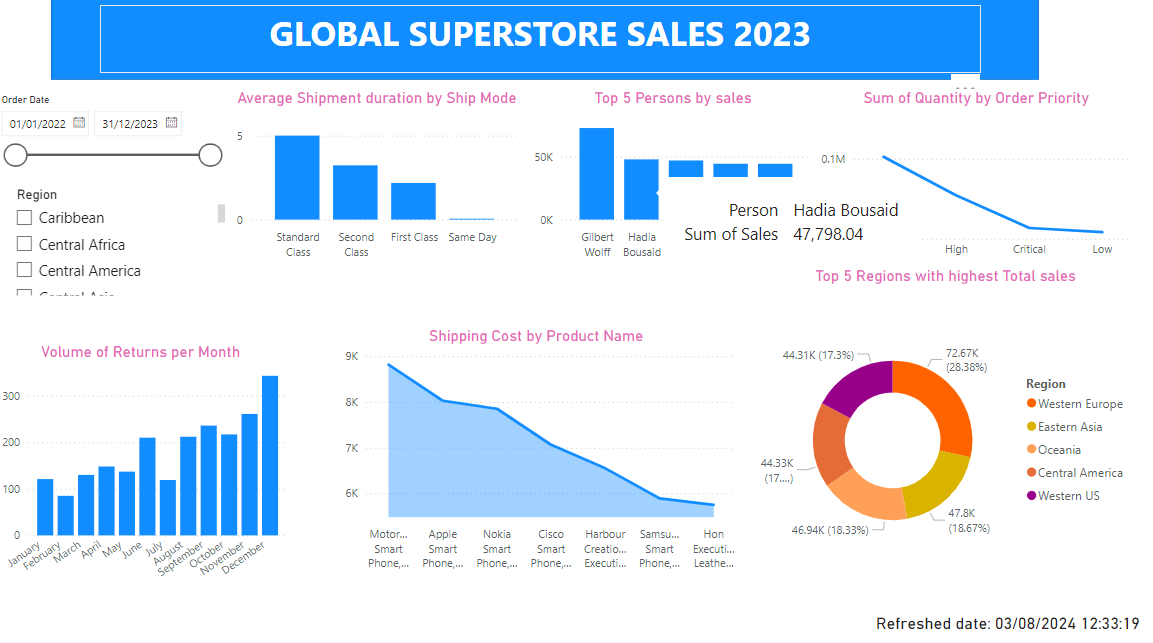

What the dashboard file says about the page in this screenshot:
{"tool":"powerbi","page":{"name":"Page 1","canvas":[1280,720],"ordinal":0},"visuals":[{"type":"textbox","box":[314.2,35.7,837.1,54.9],"z":0},{"type":"textbox","box":[10,570,280,150],"z":1000},{"type":"shape","box":[67.2,0,1084.1,98.8],"z":2000},{"type":"textbox","box":[120.8,16.5,967.4,74.1],"z":3000},{"type":"columnChart","title":"Top 5 Persons by sales","fields":{"Category":["People.Person"],"Y":["Orders.Sales"]},"box":[592.8,108.4,314.2,194.9],"z":4000},{"type":"donutChart","title":"Top 5 Regions with highest Total sales ","fields":{"Category":["People.Region"],"Y":["Orders.Sales"]},"box":[839.8,303.3,418.5,363.6],"z":5000},{"type":"stackedAreaChart","title":" Shipping Cost by Product Name","fields":{"Category":["Orders.Product Name"],"Y":["Orders.Shipping Cost"]},"box":[371.9,369.1,455.6,275.8],"z":6000},{"type":"lineChart","fields":{"Category":["Orders.Order Priority"],"Y":["Orders.Quantity"]},"box":[907,108.4,351.3,194.9],"z":7000},{"type":"columnChart","title":"Volume of Returns per Month","fields":{"Category":["Orders.Ship Date.Variation.Date Hierarchy.Month"],"Y":["Orders.Order ID"]},"box":[0,387,330.7,279.9],"z":8000},{"type":"clusteredColumnChart","title":"Average Shipment duration by Ship Mode","fields":{"Category":["Orders.Ship Mode"],"Y":["Orders.Shipment duration"]},"box":[263.5,108.4,322.5,194.9],"z":9000},{"type":"slicer","fields":{"Values":["Orders.Order Date"]},"box":[0,108.4,263.5,97.4],"z":10000},{"type":"slicer","fields":{"Values":["Returns.Region"]},"box":[16.5,211.3,247,129],"z":11000},{"type":"card","fields":{"Values":["Refresh date.Refreshed date"]},"box":[955.1,671,325.2,49.4],"z":11001}]}

Visuals, with their boxes in screenshot pixels (x1, y1, x2, y2), scaled from the page's 1280x720 canvas onto the 1153x643 screenshot:
textbox: <bbox>283, 32, 1037, 81</bbox>
textbox: <bbox>9, 509, 261, 642</bbox>
shape: <bbox>61, 0, 1037, 88</bbox>
textbox: <bbox>109, 15, 980, 81</bbox>
"Top 5 Persons by sales" columnChart: <bbox>534, 97, 817, 271</bbox>
"Top 5 Regions with highest Total sales " donutChart: <bbox>756, 271, 1133, 596</bbox>
" Shipping Cost by Product Name" stackedAreaChart: <bbox>335, 330, 745, 576</bbox>
lineChart - Orders.Order Priority x Orders.Quantity: <bbox>817, 97, 1133, 271</bbox>
"Volume of Returns per Month" columnChart: <bbox>0, 346, 298, 596</bbox>
"Average Shipment duration by Ship Mode" clusteredColumnChart: <bbox>237, 97, 528, 271</bbox>
slicer - Orders.Order Date: <bbox>0, 97, 237, 184</bbox>
slicer - Returns.Region: <bbox>15, 189, 237, 304</bbox>
card - Refresh date.Refreshed date: <bbox>860, 599, 1152, 642</bbox>
